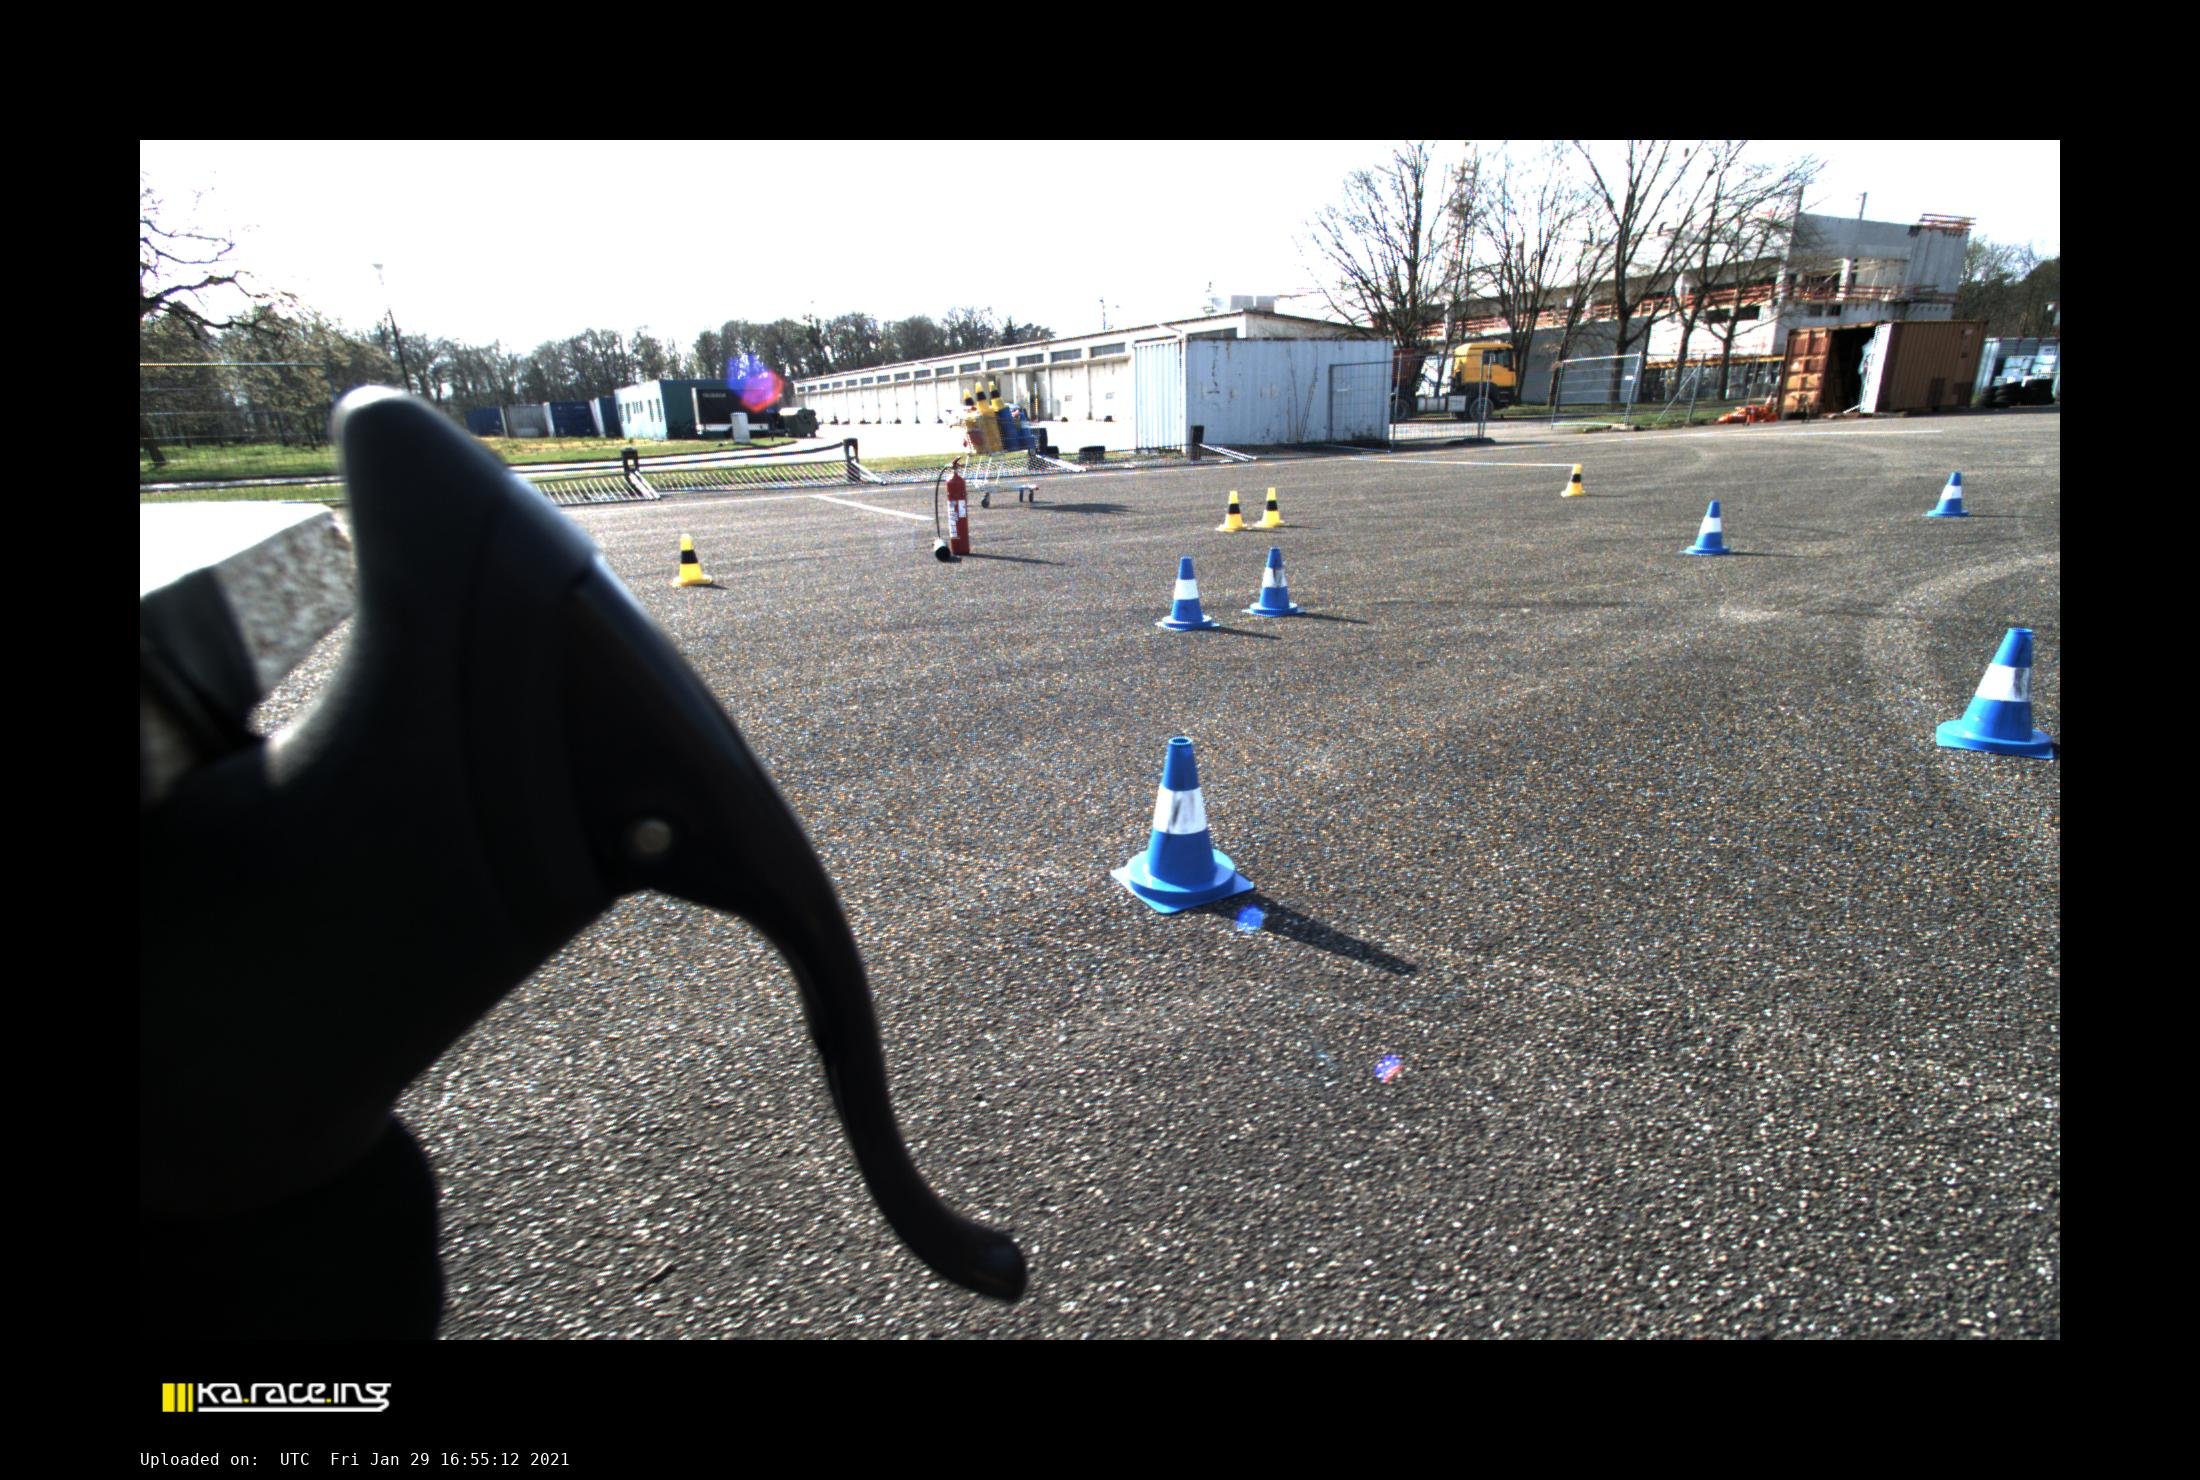blue_cone: (1110, 737, 1256, 914), (1936, 628, 2054, 759), (1155, 557, 1220, 632), (1242, 547, 1306, 617), (1680, 501, 1736, 555), (1924, 472, 1969, 517), (1018, 412, 1036, 438)
yellow_cone: (673, 534, 712, 587), (1253, 488, 1285, 527), (1216, 491, 1247, 531), (1562, 464, 1585, 496), (988, 380, 1009, 411), (975, 381, 994, 413), (962, 388, 975, 415)
